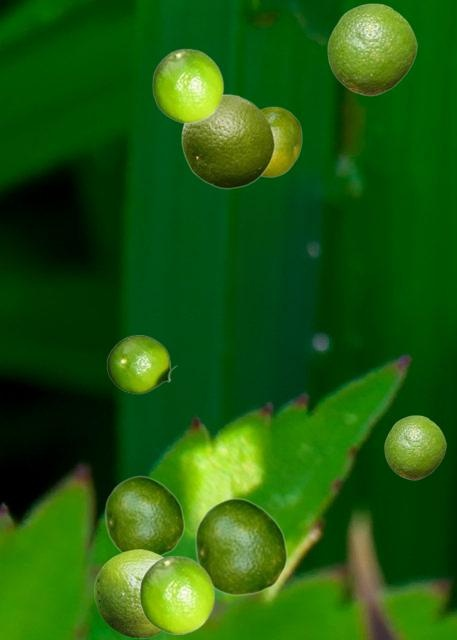calamansi: (194, 497, 287, 595), (181, 93, 274, 188), (327, 3, 416, 95), (104, 475, 184, 555), (94, 549, 163, 637), (139, 555, 214, 633), (152, 48, 223, 122), (106, 335, 177, 393), (384, 415, 445, 479), (261, 106, 301, 176)
